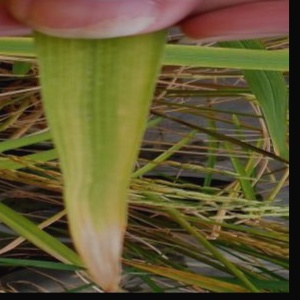Leaf_Blast: (60, 38, 138, 229)
